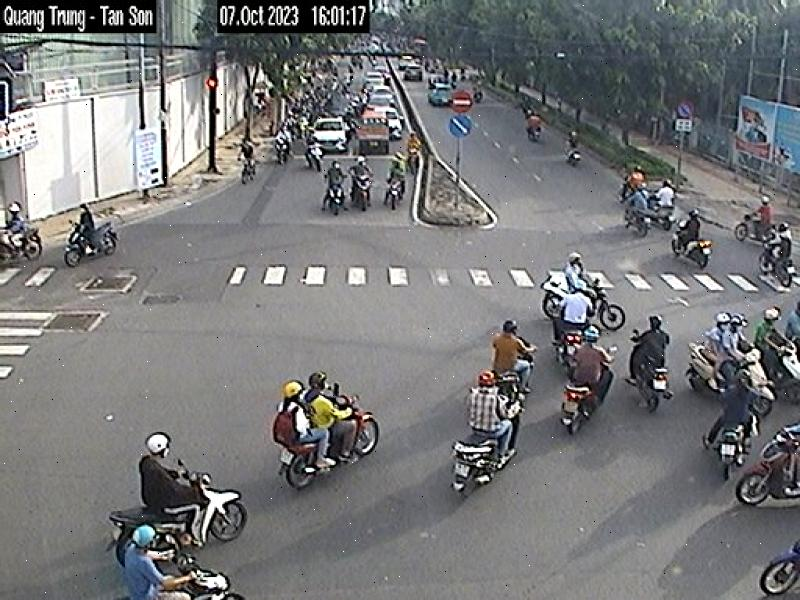motorcycle: (76, 467, 273, 544), (220, 394, 408, 467), (434, 401, 556, 499), (690, 427, 800, 522), (676, 334, 779, 410), (533, 368, 620, 439), (528, 272, 633, 320)
